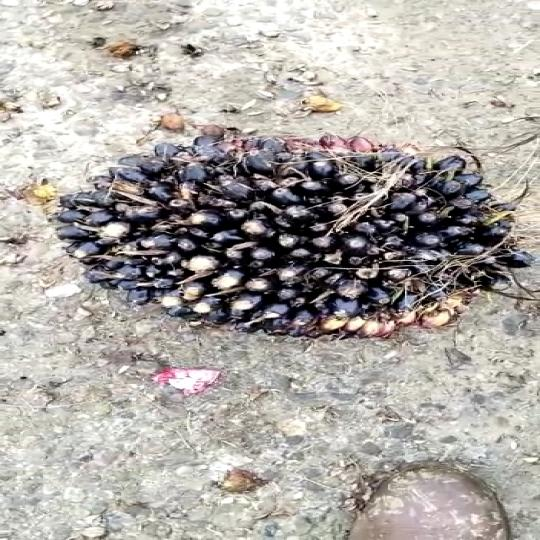mentah: (63, 112, 532, 367)
